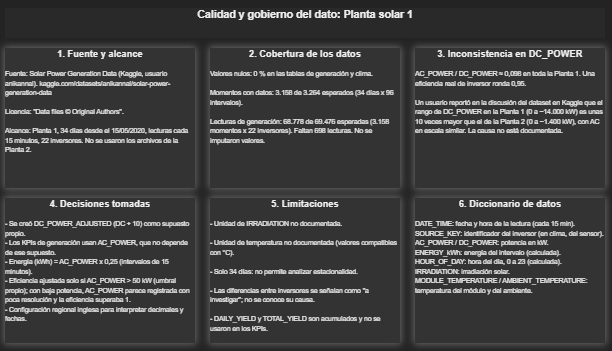

The dashboard page shown, as its layout file describes it:
{"tool":"powerbi","page":{"name":"Calidad y gobierno del dato","canvas":[1920,1080],"ordinal":2},"visuals":[{"type":"textbox","box":[40,100,380,280],"z":0},{"type":"textbox","box":[450,100,380,280],"z":1},{"type":"textbox","box":[860,100,380,280],"z":2},{"type":"textbox","box":[40,400,380,290],"z":3},{"type":"textbox","box":[450,400,380,290],"z":4},{"type":"textbox","box":[860,400,380,290],"z":5},{"type":"textbox","box":[40,20,1200,60],"z":6}]}

Visuals, with their boxes in screenshot pixels (x1, y1, x2, y2), scaled from the page's 1920x1080 canvas onto the 612x351 screenshot:
textbox: detection(13, 32, 134, 124)
textbox: detection(143, 32, 265, 124)
textbox: detection(274, 32, 395, 124)
textbox: detection(13, 130, 134, 224)
textbox: detection(143, 130, 265, 224)
textbox: detection(274, 130, 395, 224)
textbox: detection(13, 6, 395, 26)
